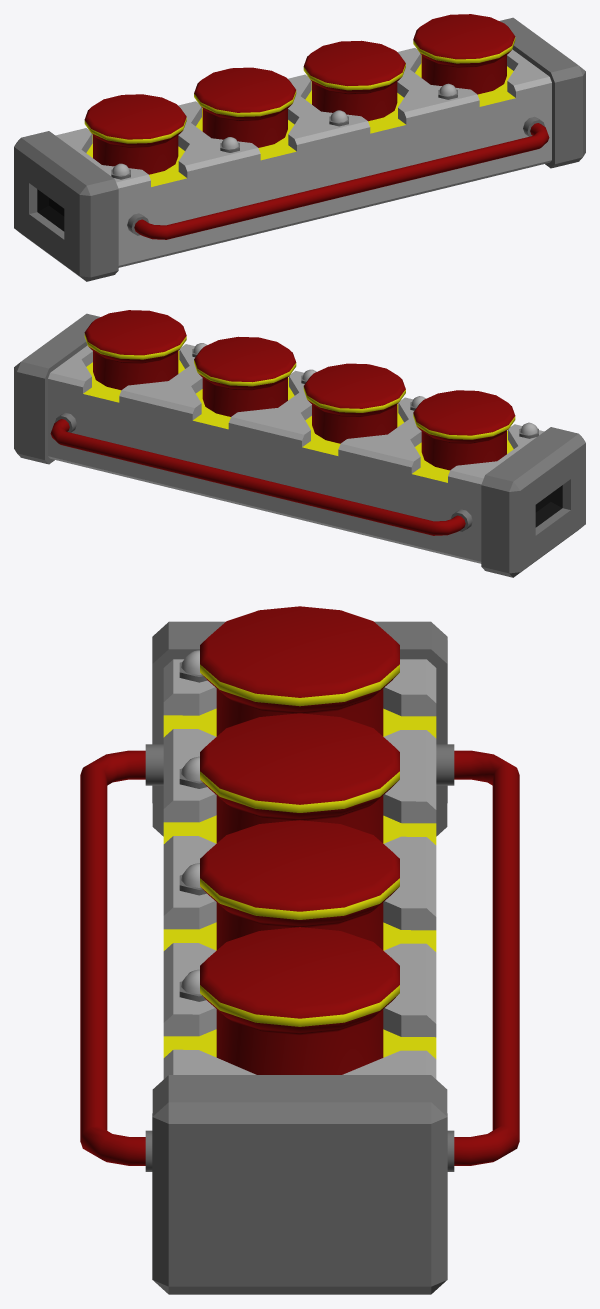
The model's file is WW_controller_prop.fbx.
3 views of the same model, one above another, from view 1: azimuth 30°, elevation 25°; view 2: azimuth 150°, elevation 25°; view 3: azimuth 270°, elevation 25° (orthographic). The views are drawn at different scales.
Parts seen in each view (by area): view 1: controller_geo, button_4_geo, button_1_geo, button_3_geo, button_2_geo; view 2: controller_geo, button_1_geo, button_4_geo, button_2_geo, button_3_geo; view 3: controller_geo, button_4_geo, button_3_geo, button_2_geo, button_1_geo.
Boxes of the visible parts, box(x1,y1,x2,y2) form: controller_geo: box(14, 17, 585, 281); button_4_geo: box(413, 14, 515, 94); button_1_geo: box(84, 94, 186, 174); button_3_geo: box(303, 40, 405, 121); button_2_geo: box(194, 67, 296, 147); controller_geo: box(14, 313, 585, 577); button_1_geo: box(413, 390, 515, 470); button_4_geo: box(84, 310, 186, 390); button_2_geo: box(303, 363, 405, 443); button_3_geo: box(194, 336, 296, 416); controller_geo: box(80, 621, 519, 1294); button_4_geo: box(200, 927, 399, 1074); button_3_geo: box(200, 820, 399, 949); button_2_geo: box(200, 713, 399, 843); button_1_geo: box(200, 606, 399, 736).
Bounding box in the file's own units: 27.74 × 6.49 × 10.42.
